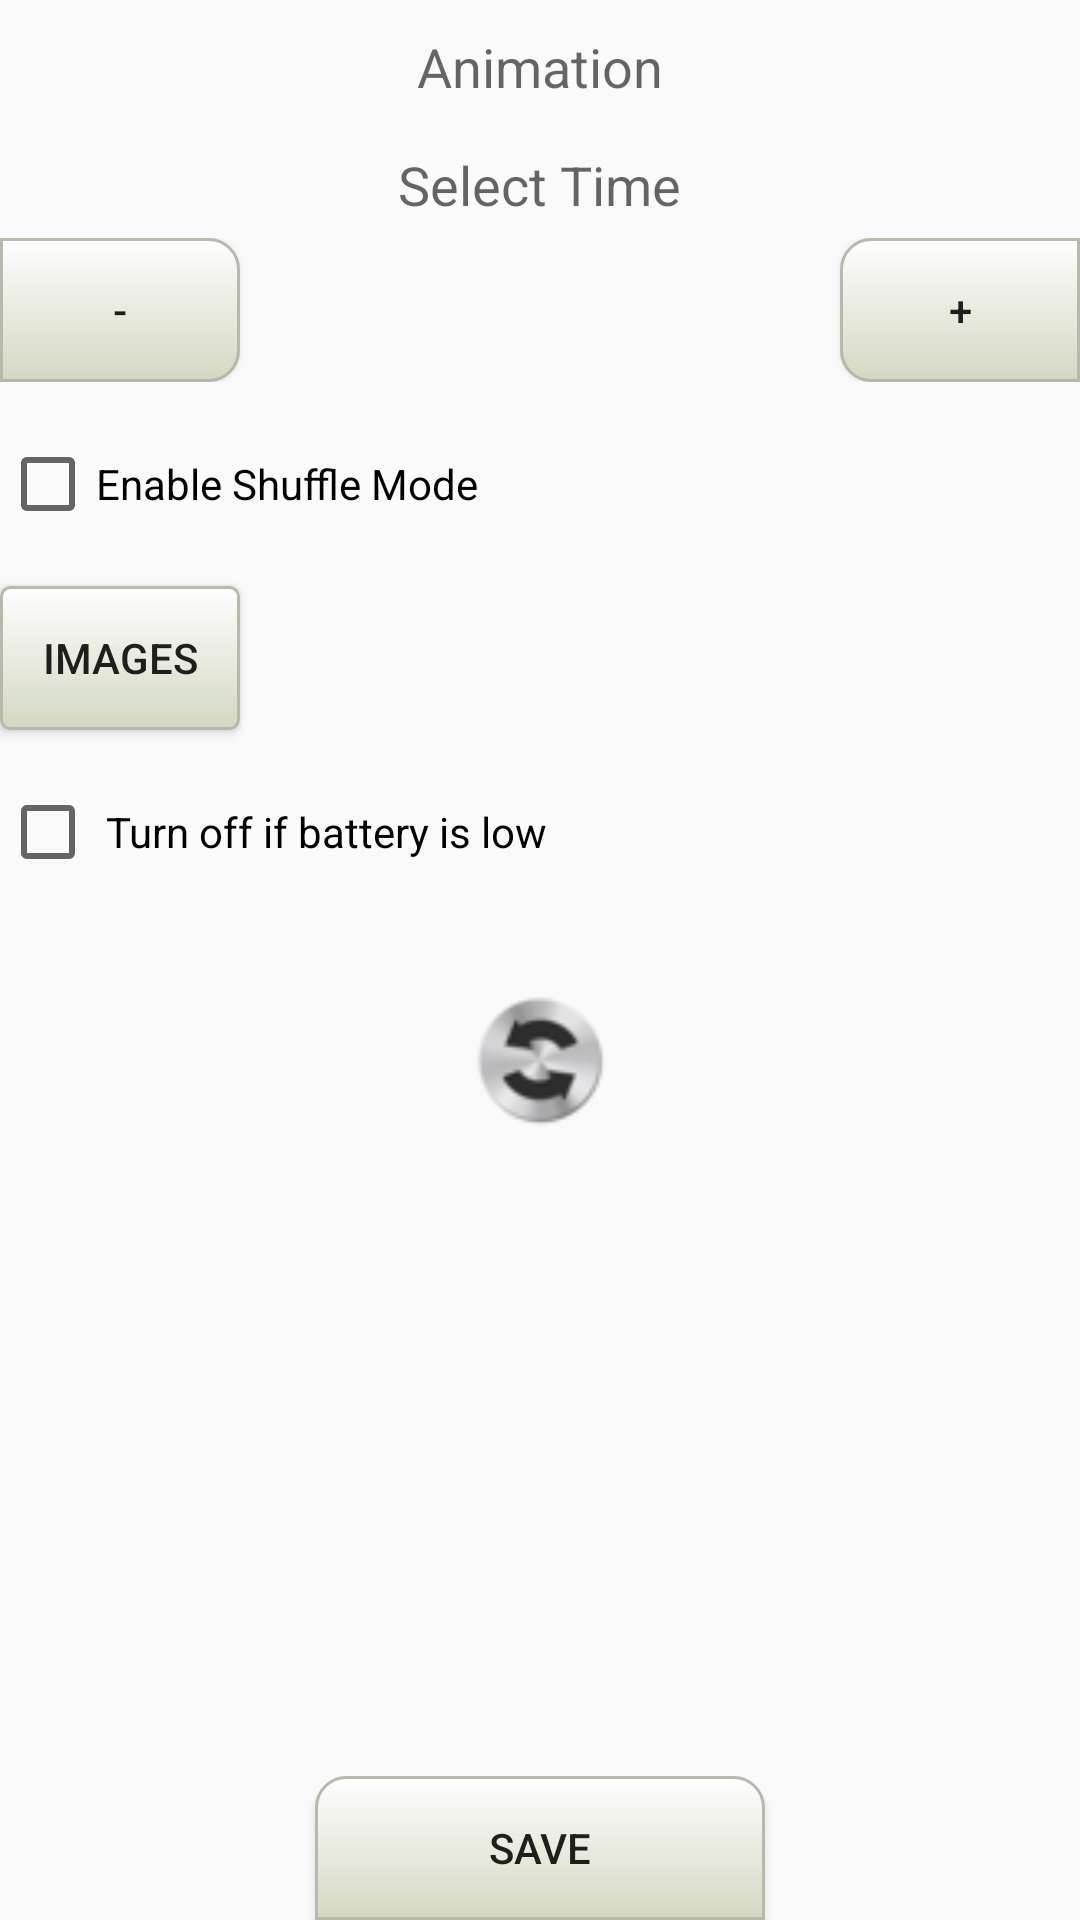

Icons on this 1080px x 1920px Android screen, each with the point to tap as point (x, y):
refresh: point (541, 1060)
